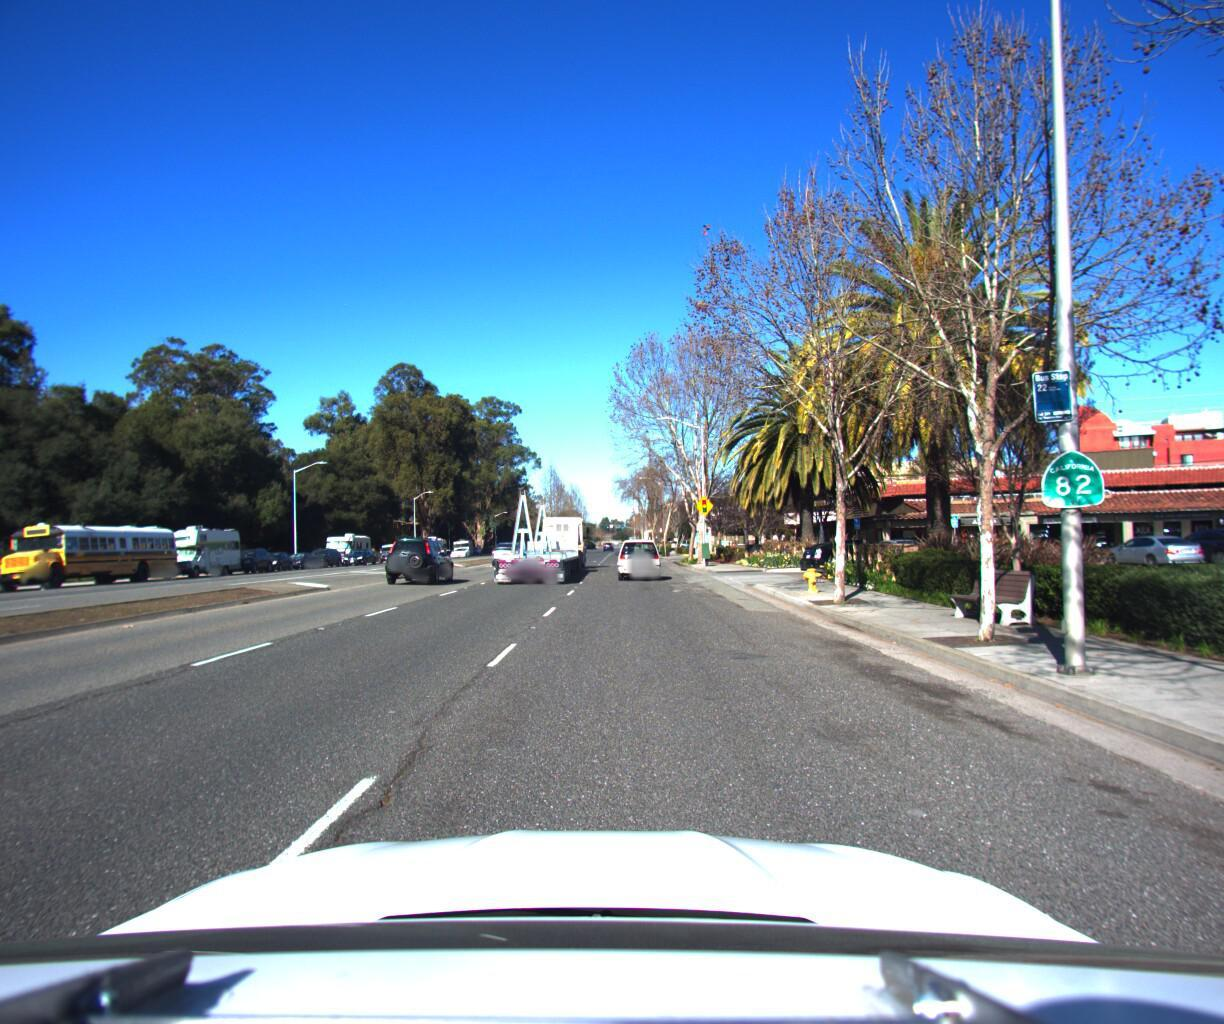car: (785, 529, 908, 573), (384, 527, 460, 580), (613, 532, 662, 574), (225, 540, 279, 568), (485, 532, 527, 557), (303, 539, 348, 561), (258, 542, 299, 565), (281, 543, 323, 563), (336, 540, 377, 558)
other_vehicle: (152, 513, 250, 573), (323, 523, 377, 559)
truck: (483, 475, 597, 590)
